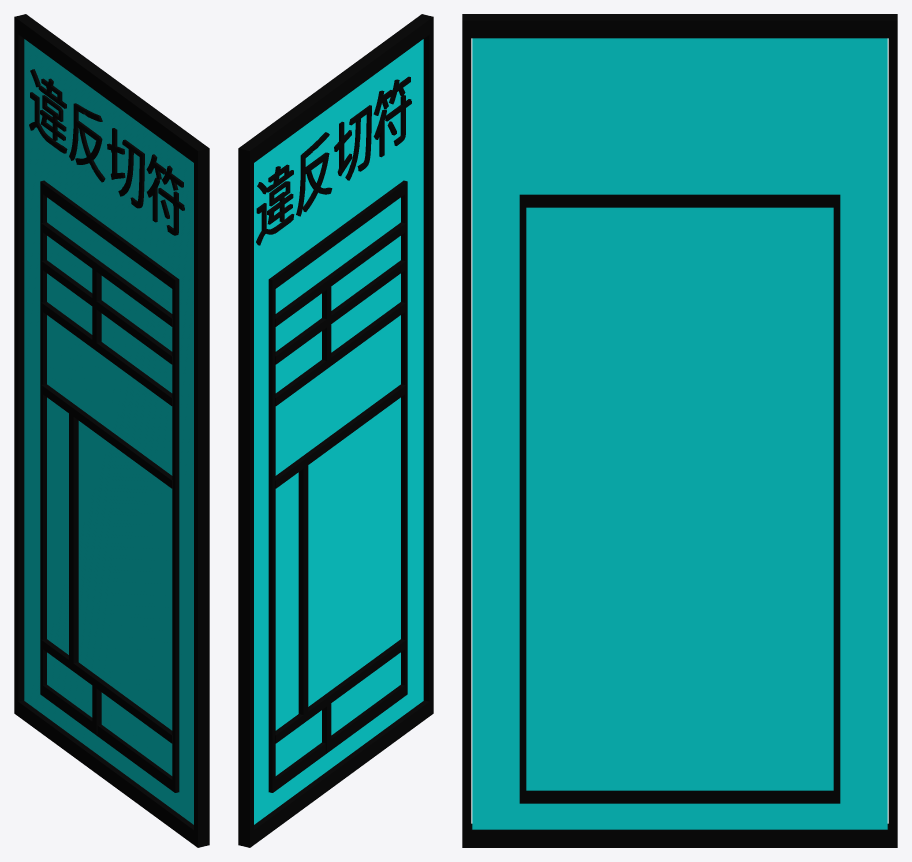
3 renders of one model, left to right at view 1: azimuth 30°, elevation 25°; view 2: azimuth 150°, elevation 25°; view 3: azimuth 270°, elevation 25°, orthographic. The views are drawn at different scales.
Parts seen in each view (by area): view 1: Plane, Cube.007; view 2: Plane, Cube.007; view 3: Plane, Cube.007.
Part boxes in pixels (x1,y1,x2,y2): Plane: (24,39,193,824); Cube.007: (14,14,209,847); Plane: (254,39,423,824); Cube.007: (238,14,433,847); Plane: (472,38,887,829); Cube.007: (462,14,897,847).
Size of the model in its own units: 7.63 by 440 by 210.
